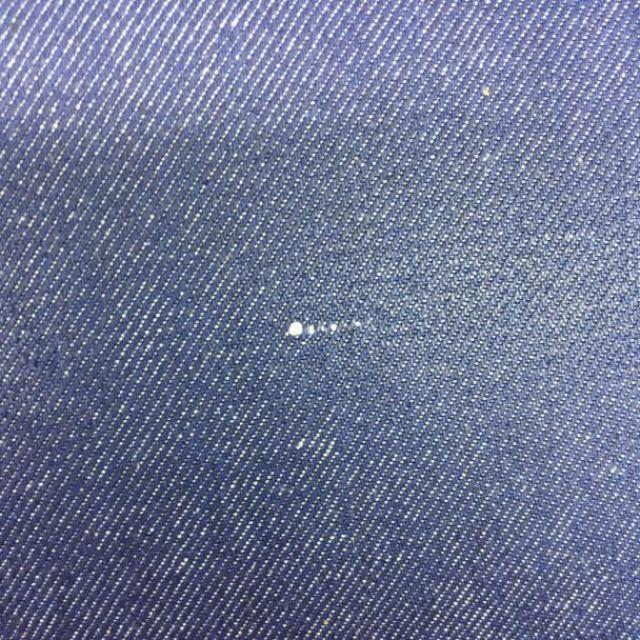Knot: (285, 321, 363, 338)
